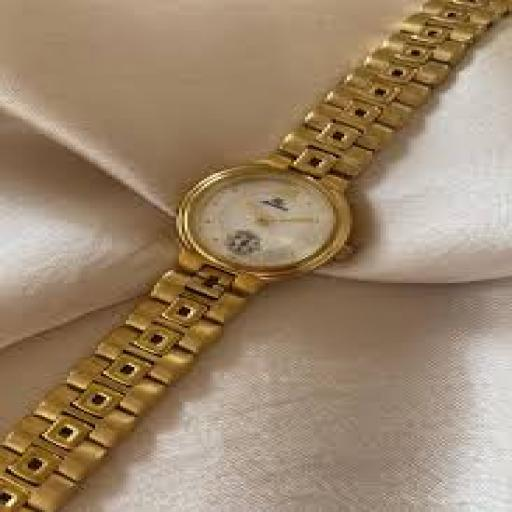KolSaati: (1, 26, 498, 488)
